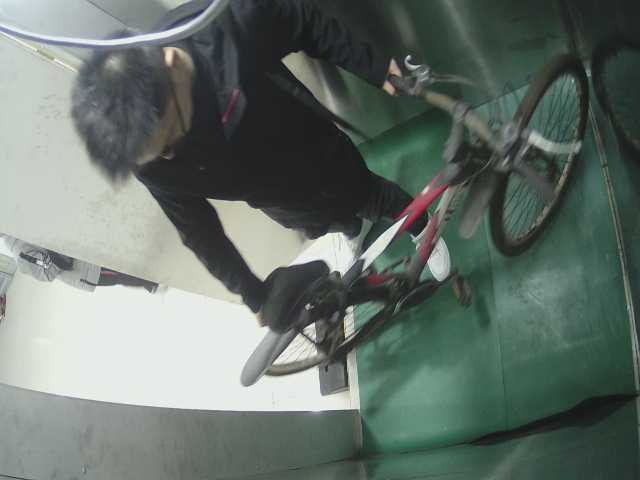bicycle: (231, 40, 592, 395)
person: (69, 6, 453, 273)
